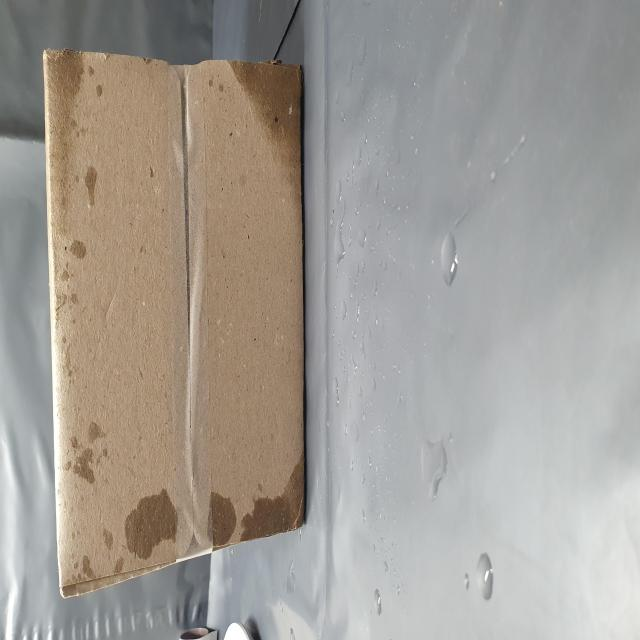wet: (266, 418, 337, 560)
